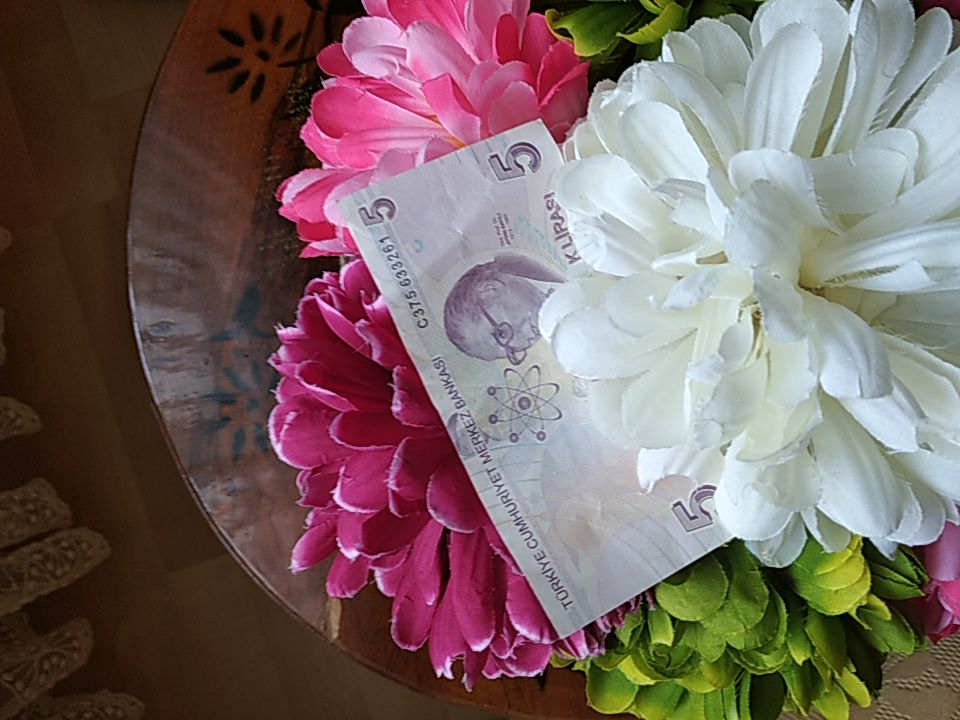5TL: (333, 116, 746, 643)
